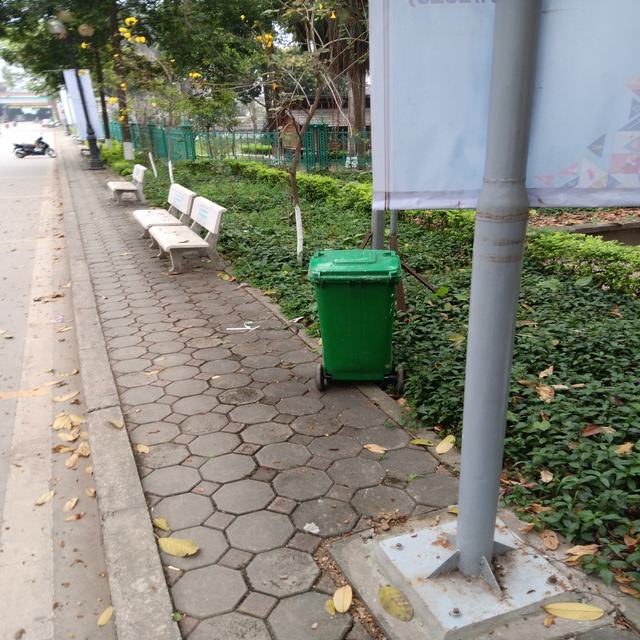thungrac: (300, 244, 405, 393)
